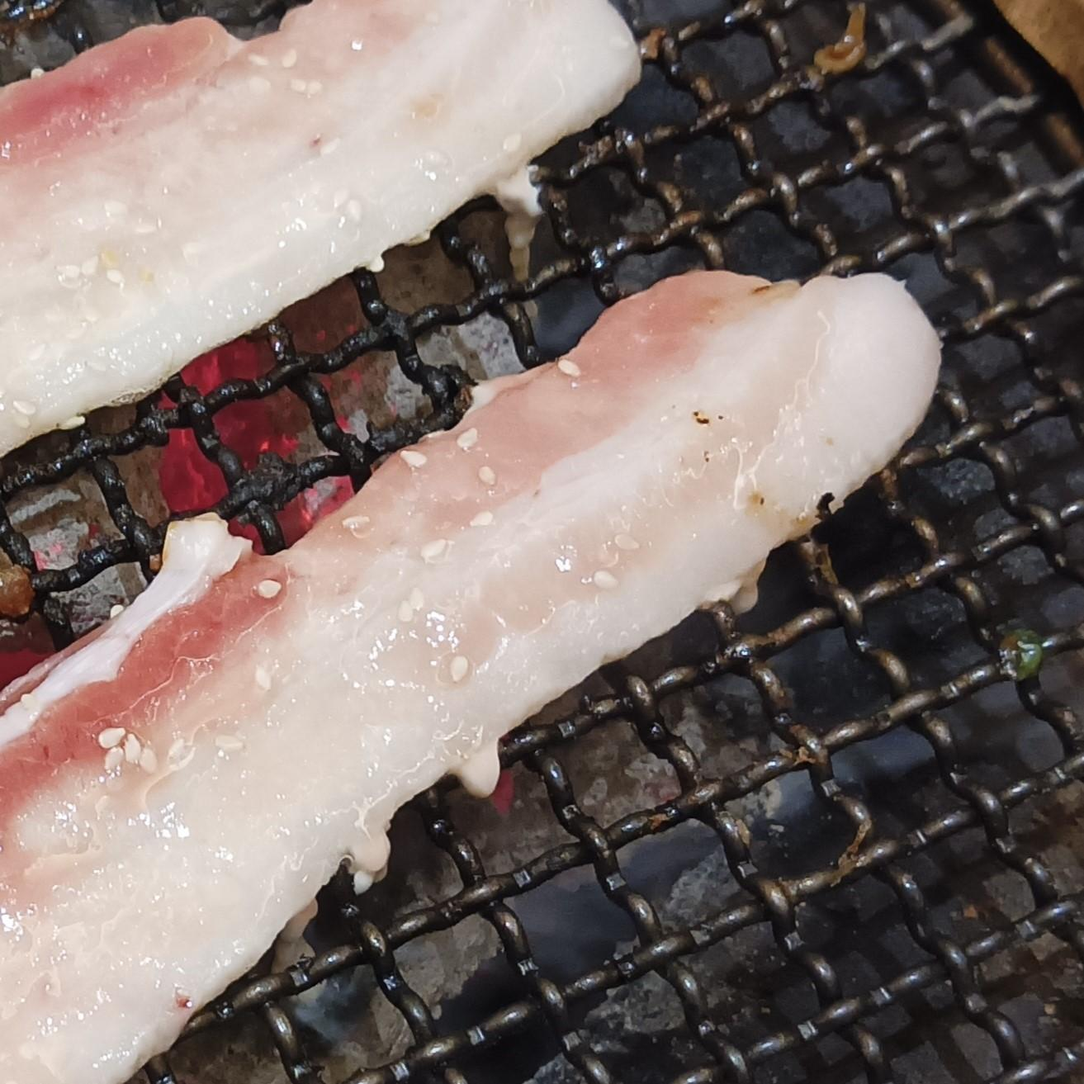Undercooked: (0, 268, 944, 1083), (0, 0, 643, 460)
